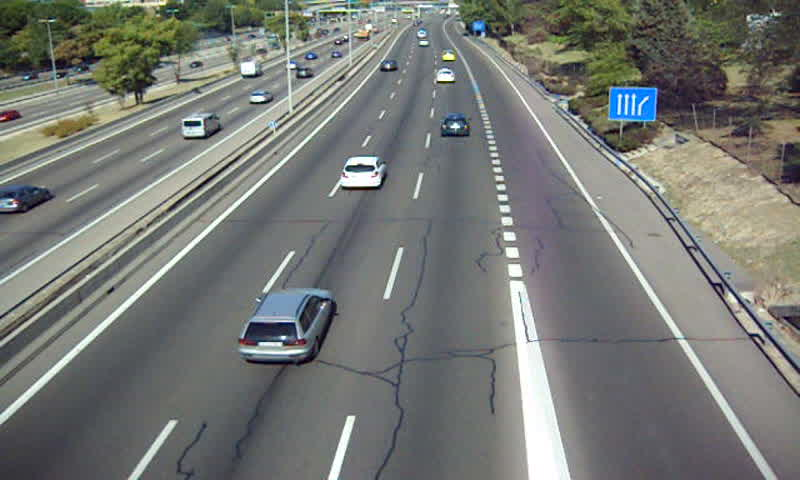car: (236, 288, 334, 368), (340, 156, 388, 188), (441, 114, 469, 136), (435, 69, 457, 85), (376, 61, 396, 74)
